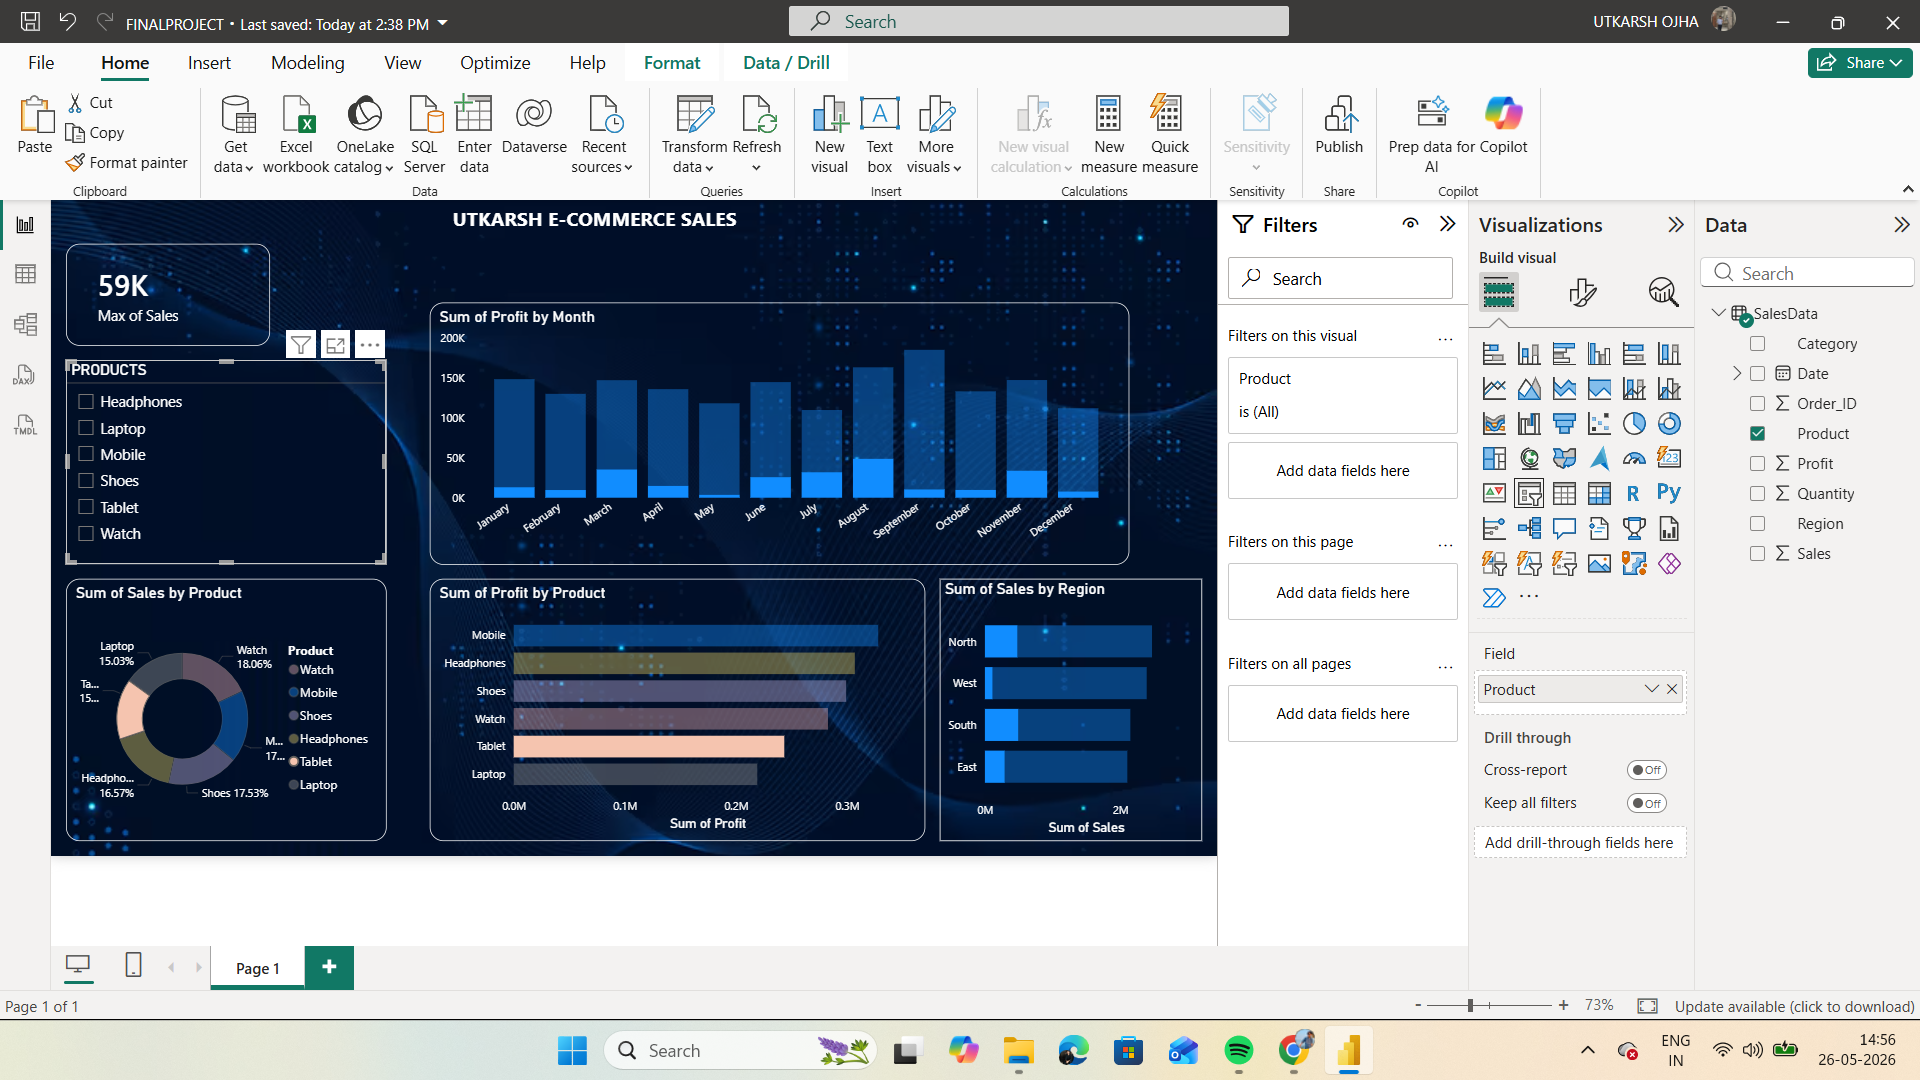

The dashboard page shown, as its layout file describes it:
{"tool":"powerbi","page":{"name":"Page 1","canvas":[1280,720],"ordinal":0},"visuals":[{"type":"textbox","box":[416,0,368,48],"z":0},{"type":"columnChart","fields":{"Category":["SalesData.Date.Variation.Date Hierarchy.Month","SalesData.Date.Variation.Date Hierarchy.Day"],"Y":["Sum(SalesData.Profit)"]},"box":[416,112,768,288],"z":1000},{"type":"barChart","fields":{"Y":["Sum(SalesData.Profit)"],"Category":["SalesData.Product"]},"box":[416,416,544,288],"z":2000},{"type":"donutChart","fields":{"Y":["Sum(SalesData.Sales)"],"Category":["SalesData.Product"]},"box":[16,416,352,288],"z":3000},{"type":"slicer","title":"PRODUCTS","fields":{"Values":["SalesData.Product"]},"box":[16,176,352,224],"z":4000},{"type":"barChart","fields":{"Category":["SalesData.Region"],"Y":["Sum(SalesData.Sales)"]},"box":[976,416,288,288],"z":5000},{"type":"cardVisual","fields":{"Data":["Max(SalesData.Sales)"]},"box":[16,48,224,112],"z":6000}]}

Visuals, with their boxes on the page's 1280x720 design canvas (x1, y1, x2, y2). These are canvas units, not pixel positions in the 1920x1080 screenshot, which may show the page scaled, cropped or inside an application window:
textbox: <box>416,0,784,48</box>
columnChart - SalesData.Date.Variation.Date Hierarchy.Month x SalesData.Date.Variation.Date Hierarchy.Day: <box>416,112,1184,400</box>
barChart - Sum(SalesData.Profit) x SalesData.Product: <box>416,416,960,704</box>
donutChart - Sum(SalesData.Sales) x SalesData.Product: <box>16,416,368,704</box>
"PRODUCTS" slicer: <box>16,176,368,400</box>
barChart - SalesData.Region x Sum(SalesData.Sales): <box>976,416,1264,704</box>
cardVisual - Max(SalesData.Sales): <box>16,48,240,160</box>
